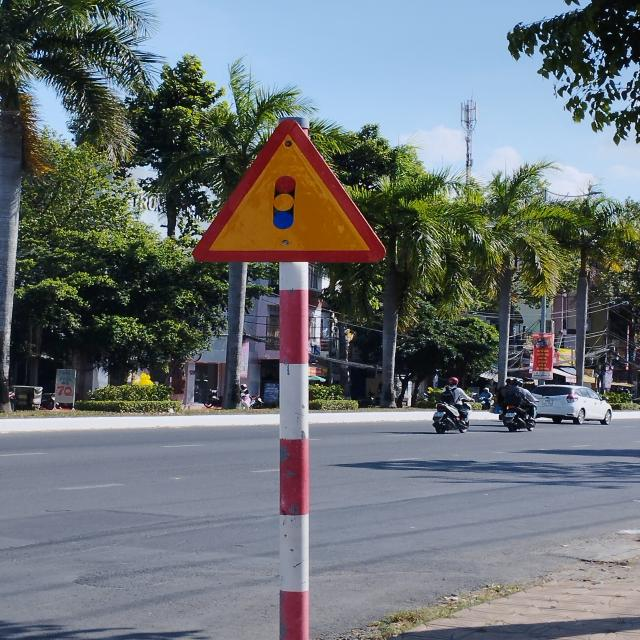Duong_Co_Go_Giam_Toc: (192, 119, 387, 263)
